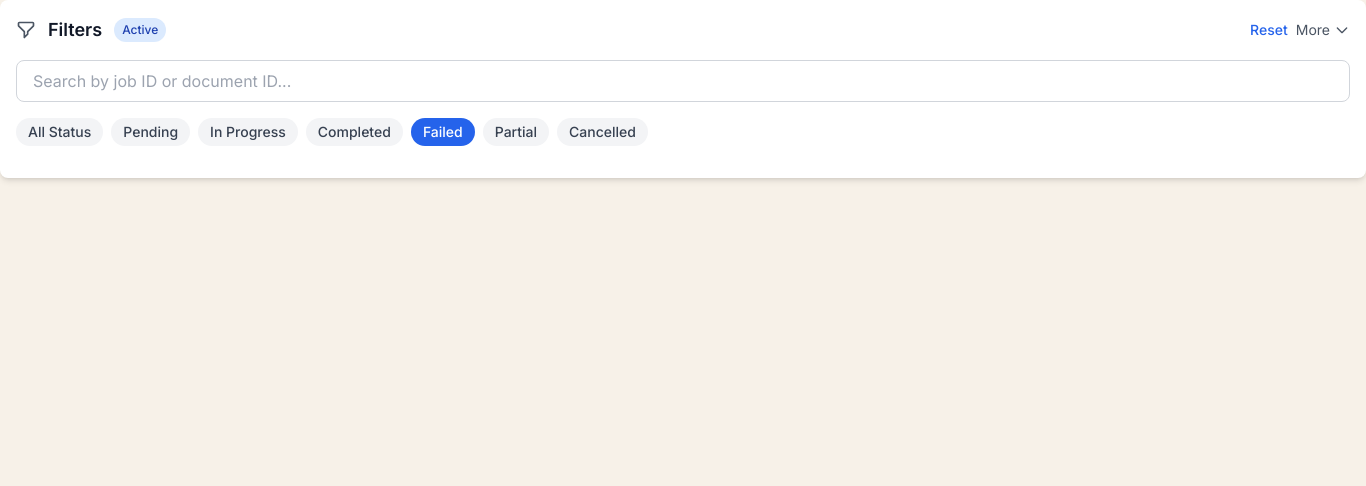
AdvancedJobFilters › Active Filters Summary (Expanded) › should display status in summary
The image size is (1366, 486).
Click the button "More".
click(1323, 30)  # box x1=1296 y1=20 x2=1350 y2=40
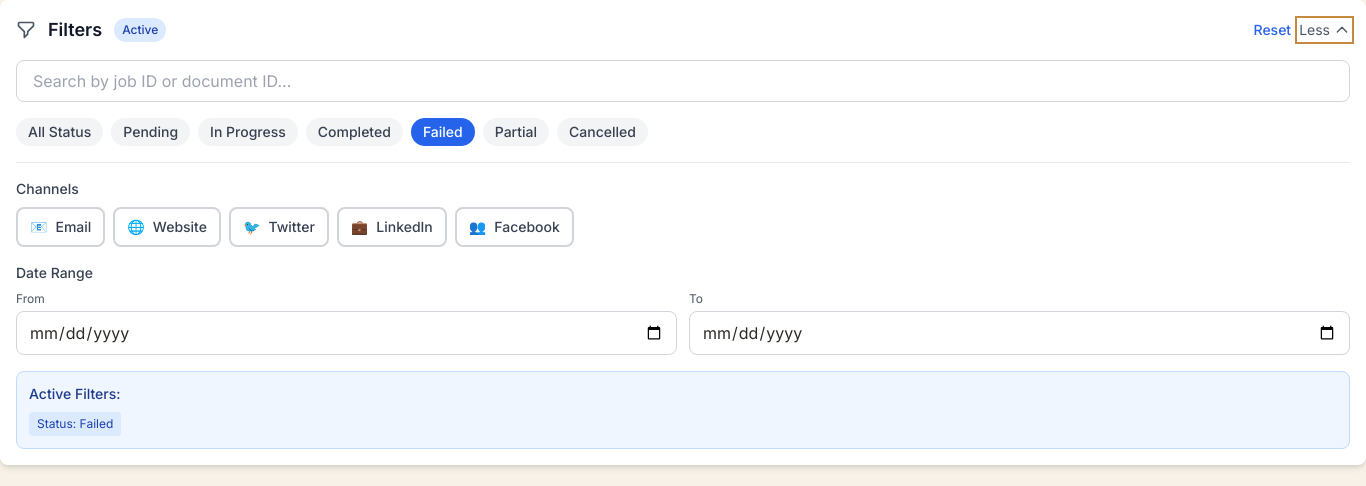
Check: the text "Status: failed" is shown, box x1=29 y1=412 x2=121 y2=436
